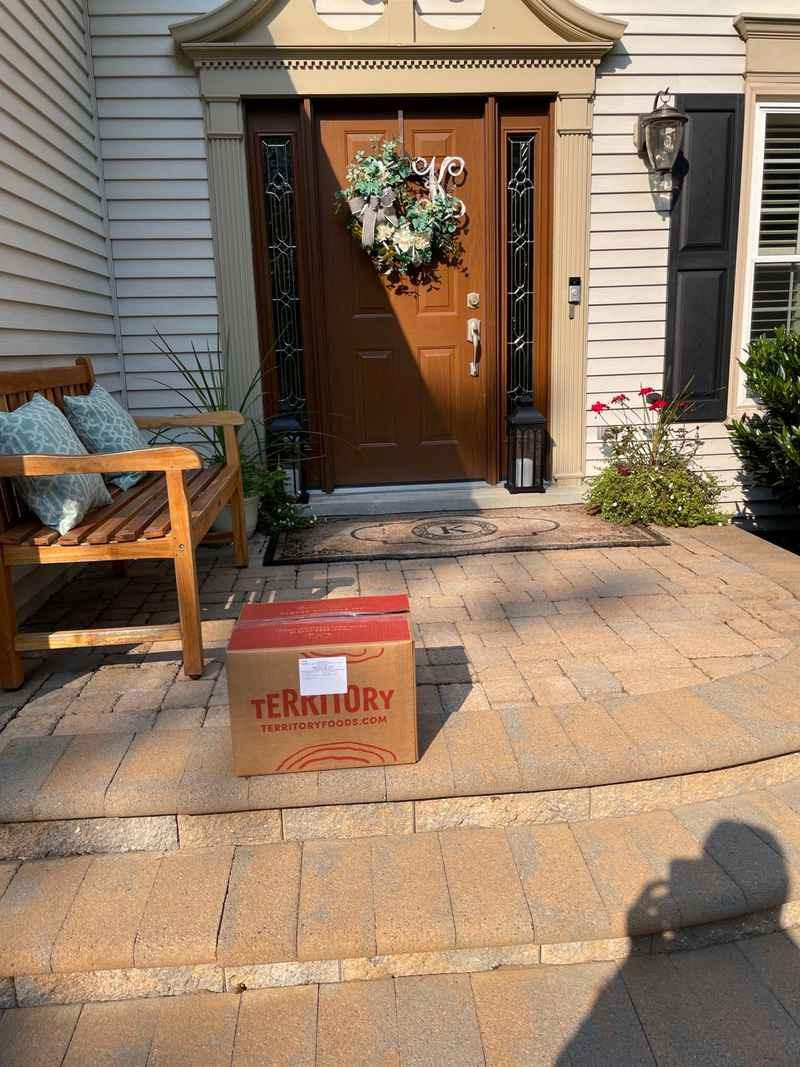package: (215, 605, 431, 780)
